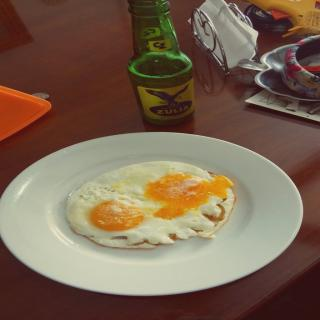Egg: (65, 160, 237, 247)
